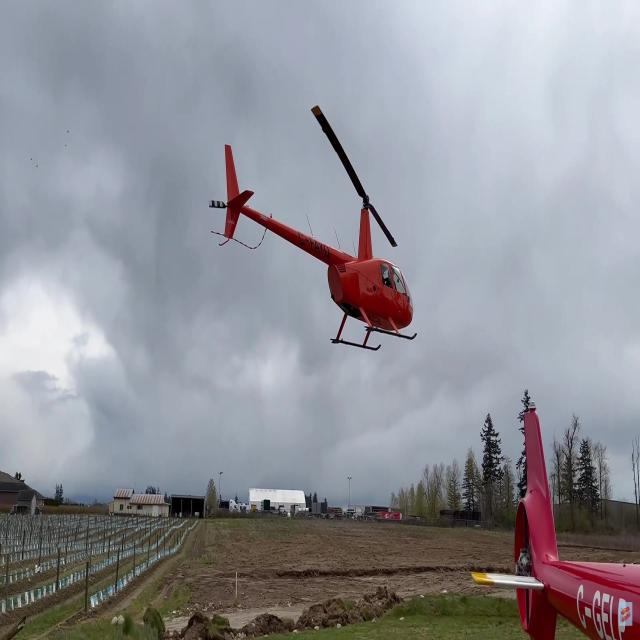CIV_HELO: (223, 142, 418, 353)
